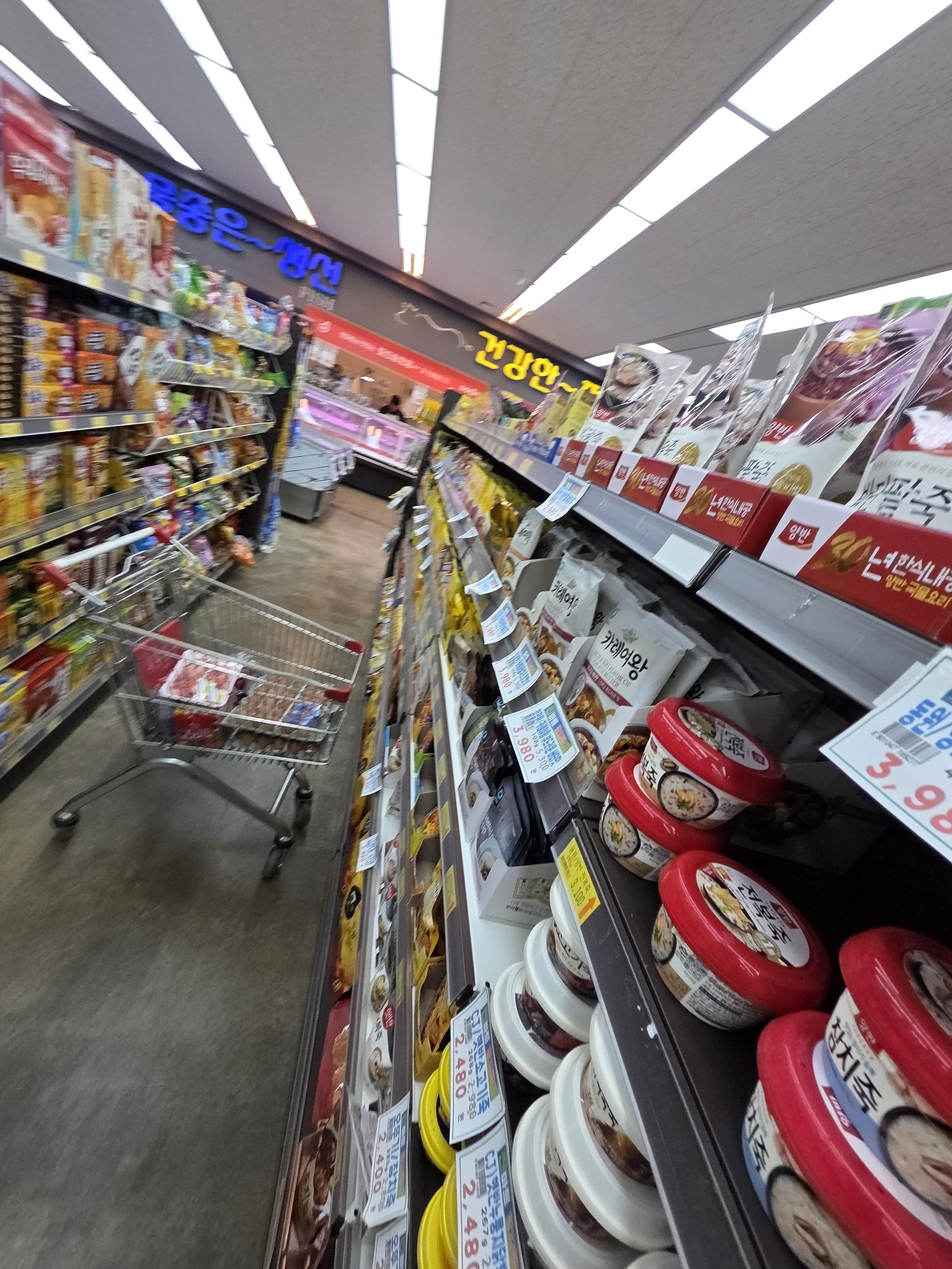fully_cart: (7, 503, 380, 869)
